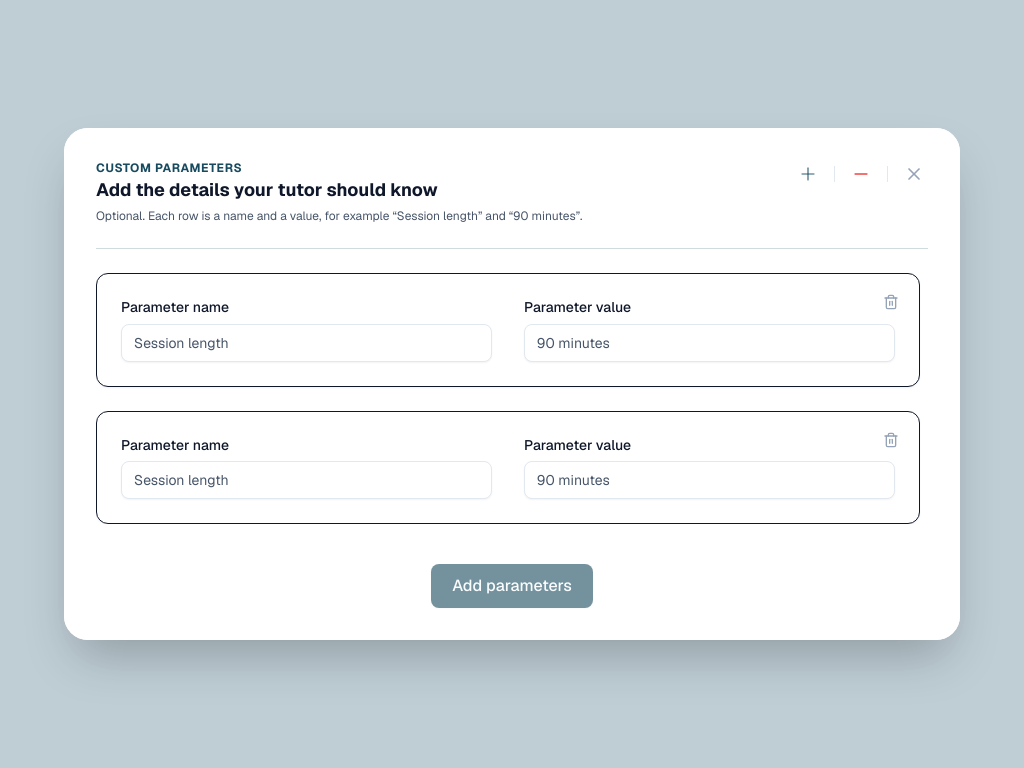
Test: CustomParametersModal › adds a row
Click the button named "Add a parameter row" at (808, 174), box x1=794 y1=160 x2=822 y2=188
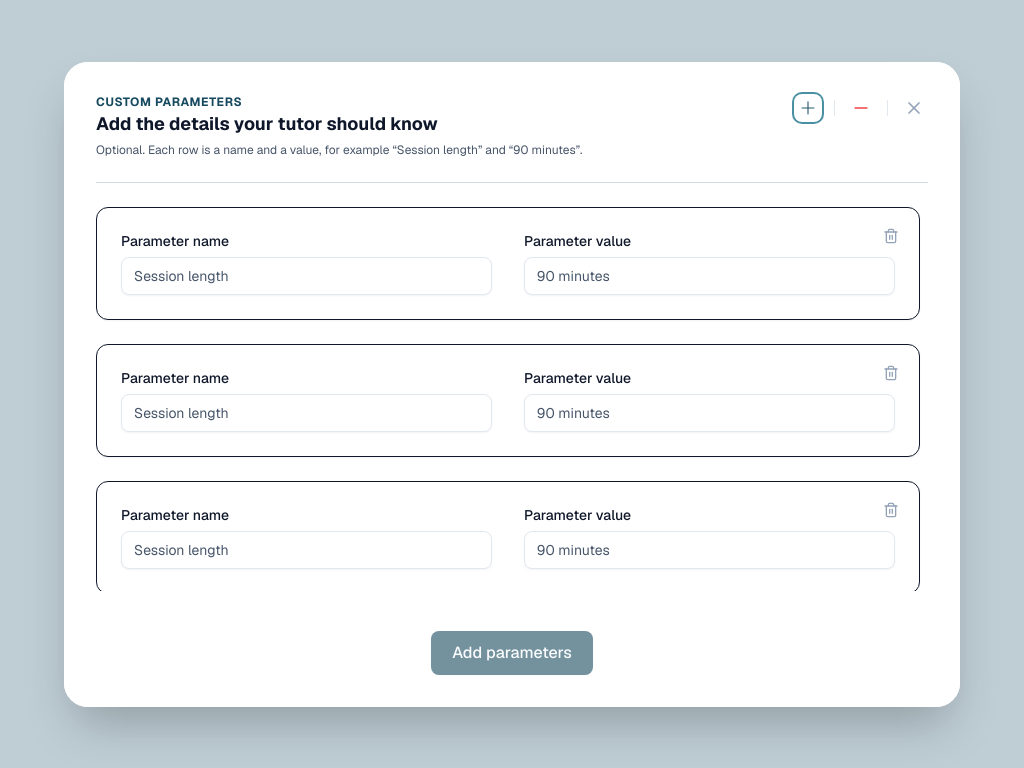
Now the number of fields labelled "Parameter name" is 3, box x1=121 y1=257 x2=492 y2=295; x1=121 y1=394 x2=492 y2=432; x1=121 y1=531 x2=492 y2=569
